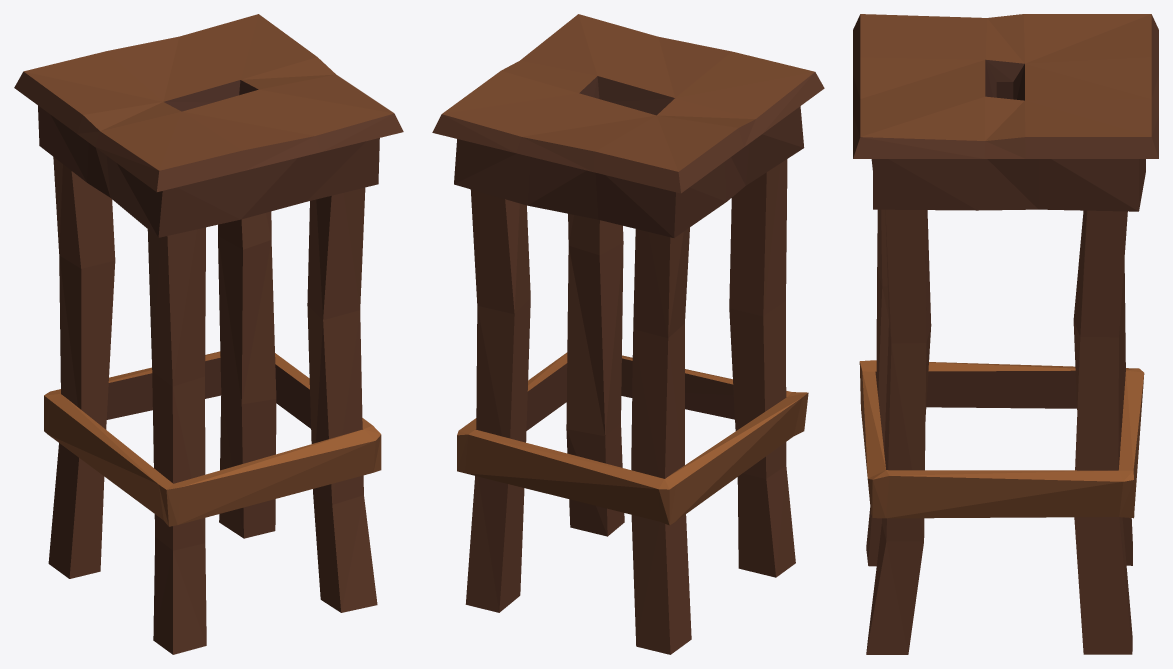
The model's file is chair_bar_downstairs.fbx.
The picture shows the model from 3 angles, left to right: view 1: azimuth 30°, elevation 25°; view 2: azimuth 150°, elevation 25°; view 3: azimuth 270°, elevation 25°; orthographic projection. The views are drawn at different scales.
Parts seen in each view (by area): view 1: chair_bar_downstairs; view 2: chair_bar_downstairs; view 3: chair_bar_downstairs.
Boxes of the visible parts, x1,y1,x2,y2 form: chair_bar_downstairs: [14, 14, 403, 654]; chair_bar_downstairs: [432, 14, 824, 654]; chair_bar_downstairs: [853, 14, 1158, 654].
Size of the model in its own units: 36.2 by 68.61 by 36.2.
